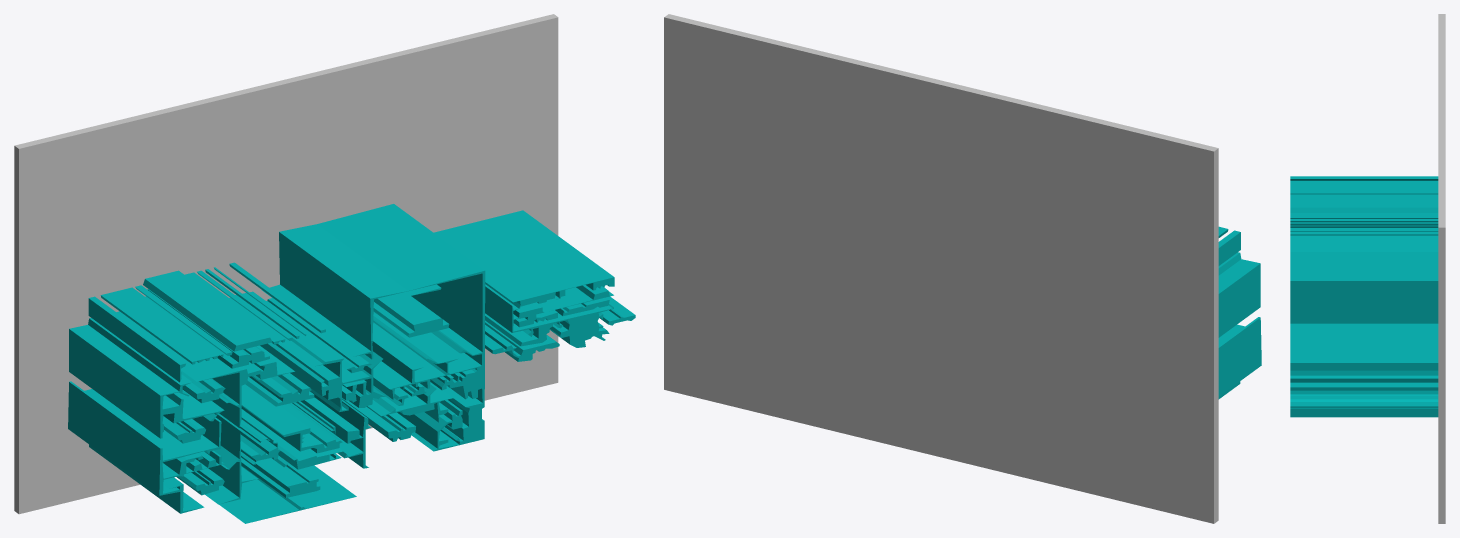
3 renders of one model, left to right at view 1: azimuth 30°, elevation 25°; view 2: azimuth 150°, elevation 25°; view 3: azimuth 270°, elevation 25°, orthographic. The views are drawn at different scales.
Visible parts, largest first — view 1: world; view 2: world; view 3: world.
Part boxes in pixels (x1=…): world: x1=14, y1=14, x2=635, y2=523; world: x1=664, y1=14, x2=1261, y2=523; world: x1=1290, y1=14, x2=1445, y2=523.
Size of the model in its own units: 10.23 by 6.62 by 3.15.
